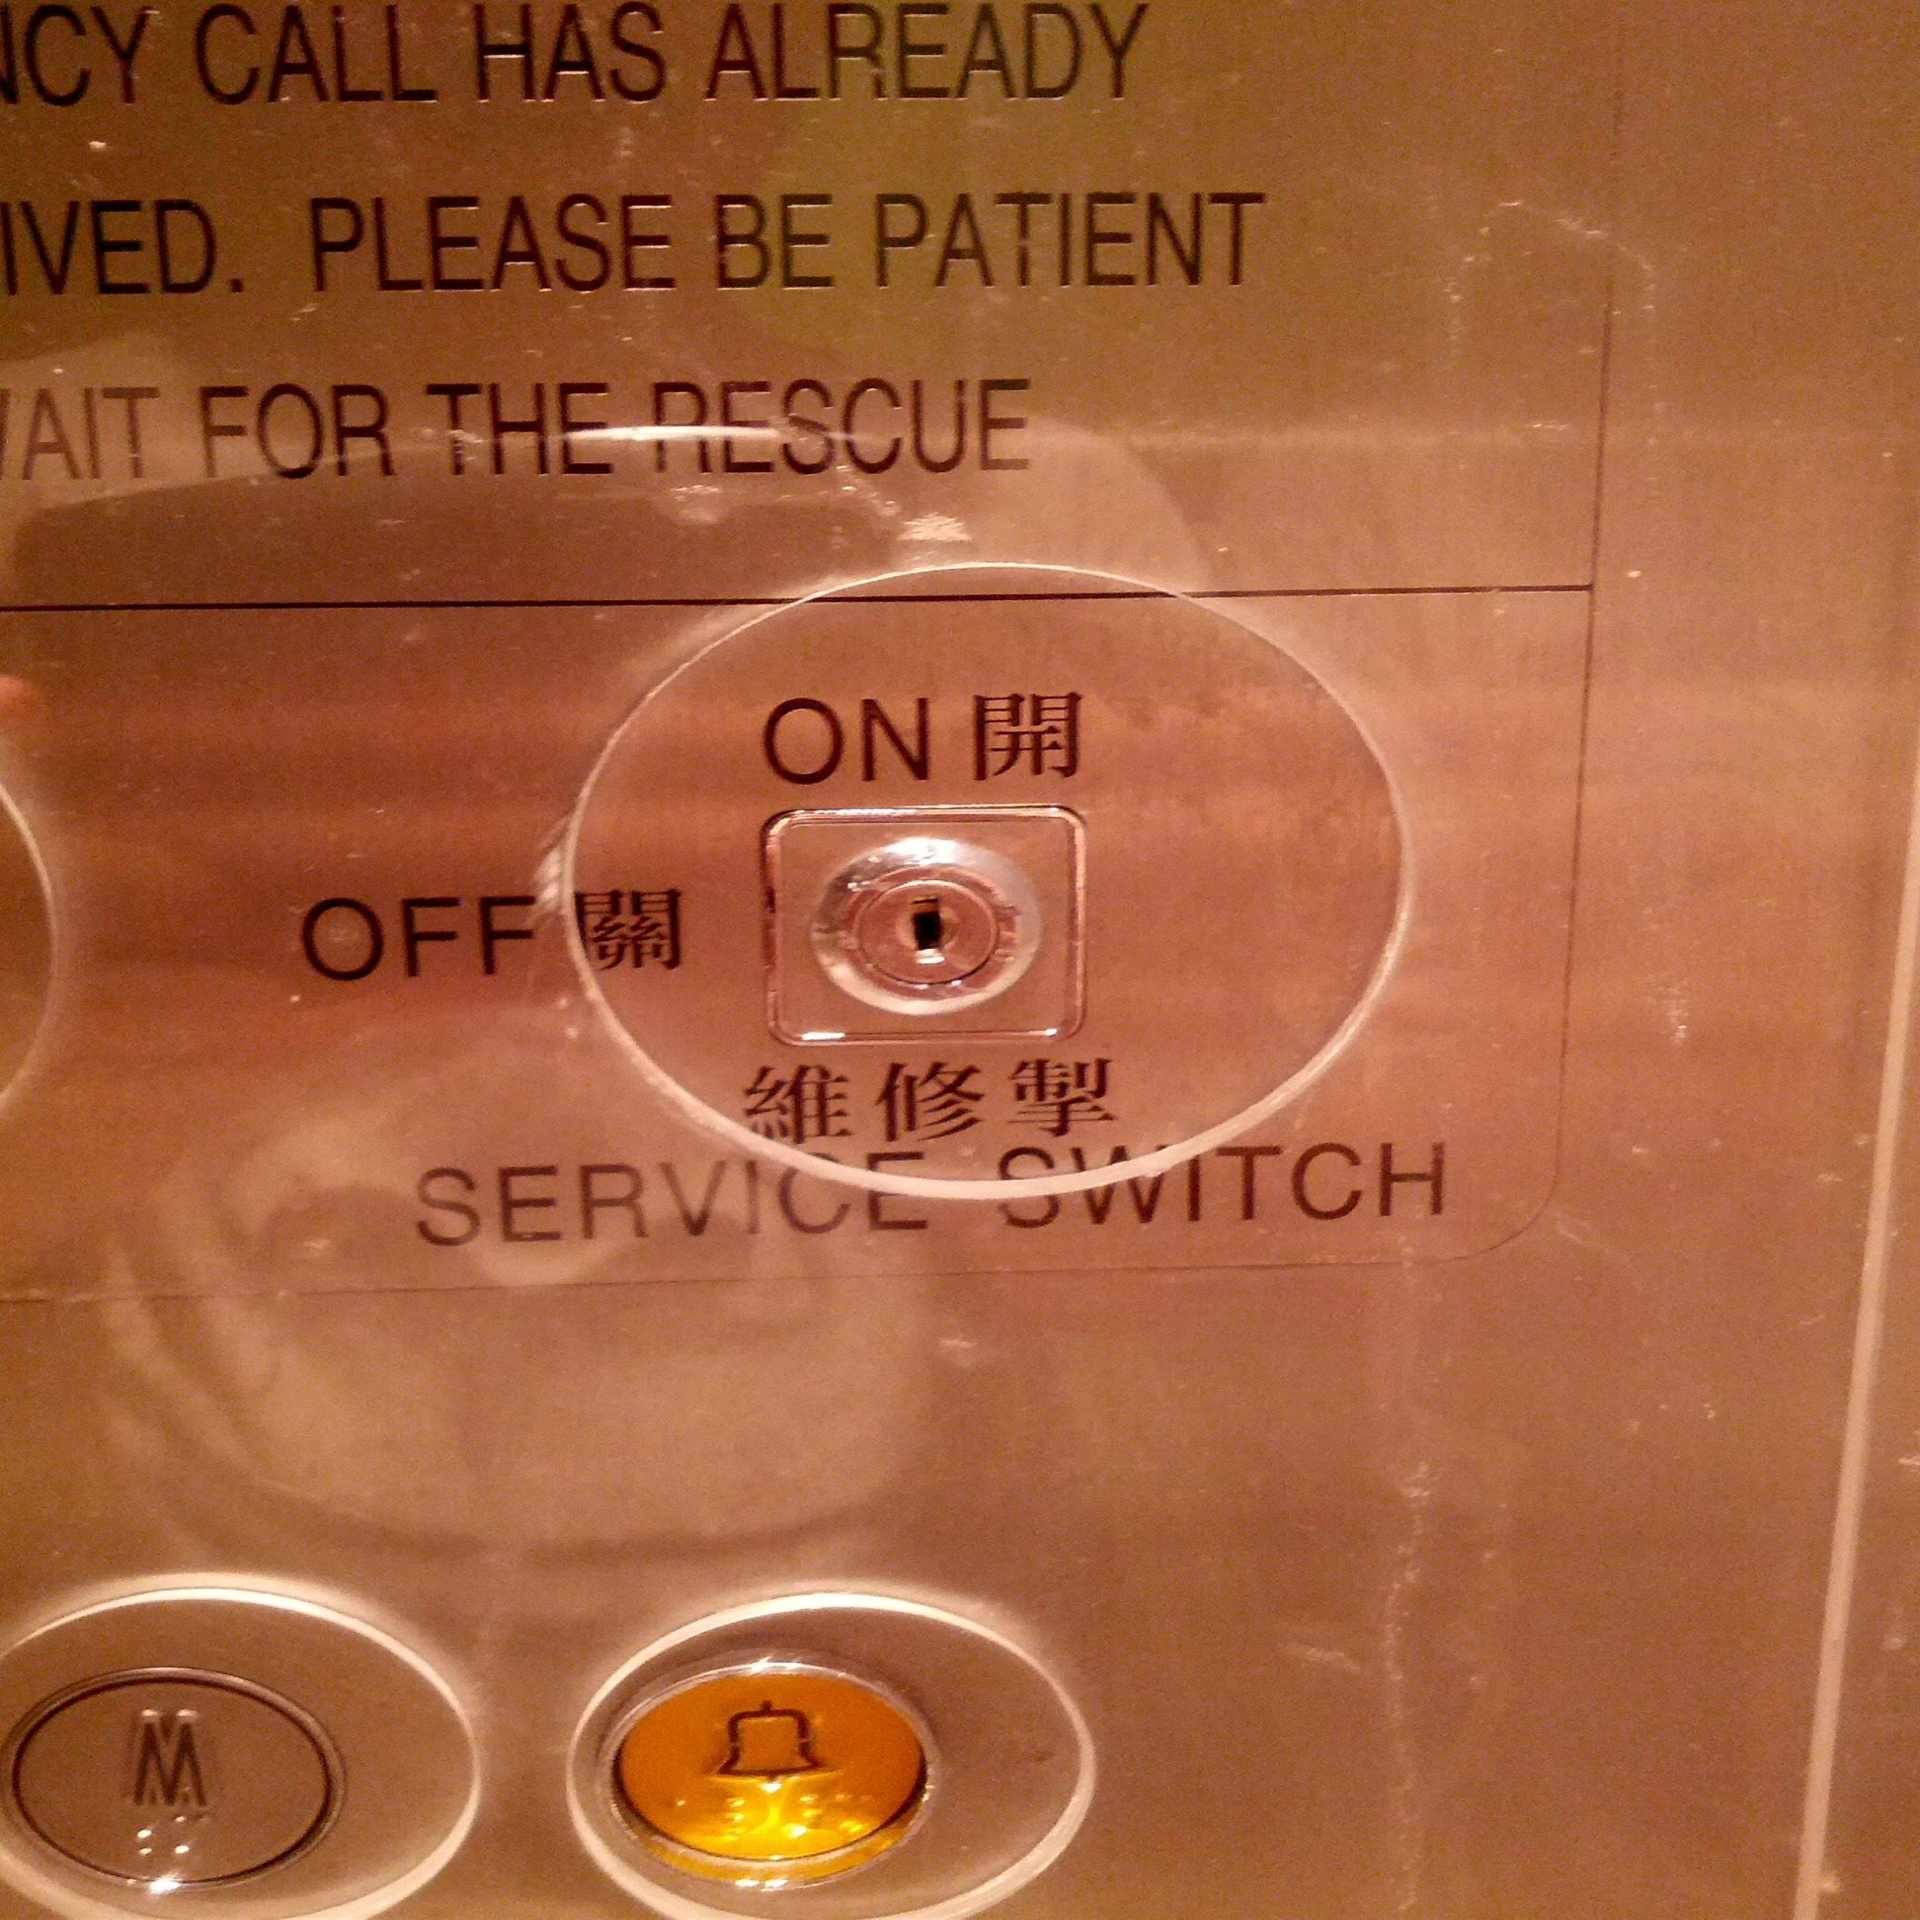M: (2, 1663, 345, 1894)
alarm: (585, 1646, 948, 1880)
bt_keyhole: (747, 777, 1088, 1071)
